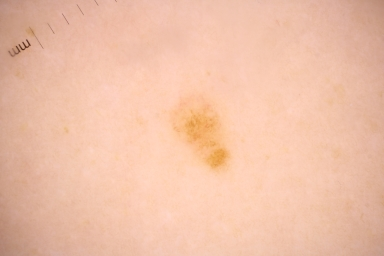nevus: (174, 95, 231, 172)
